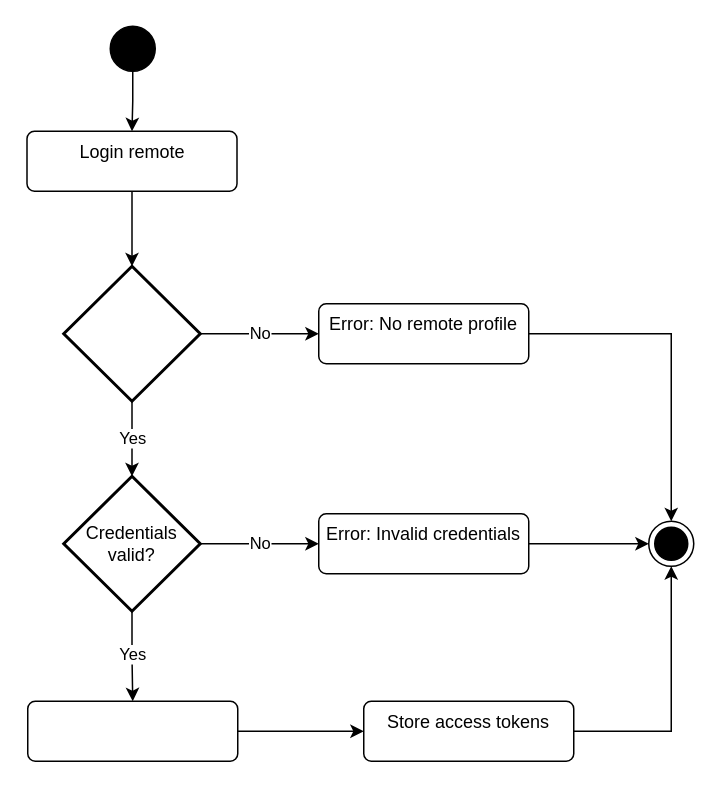
Image size: 720x788. Some labels were removed from this diagram. The shapes that lost their labels are listed below. From the top down, each one's centre as x and y in pixels, then its label:
At point (131, 333): "Profile exists?".
At point (132, 730): "Return access tokens".
